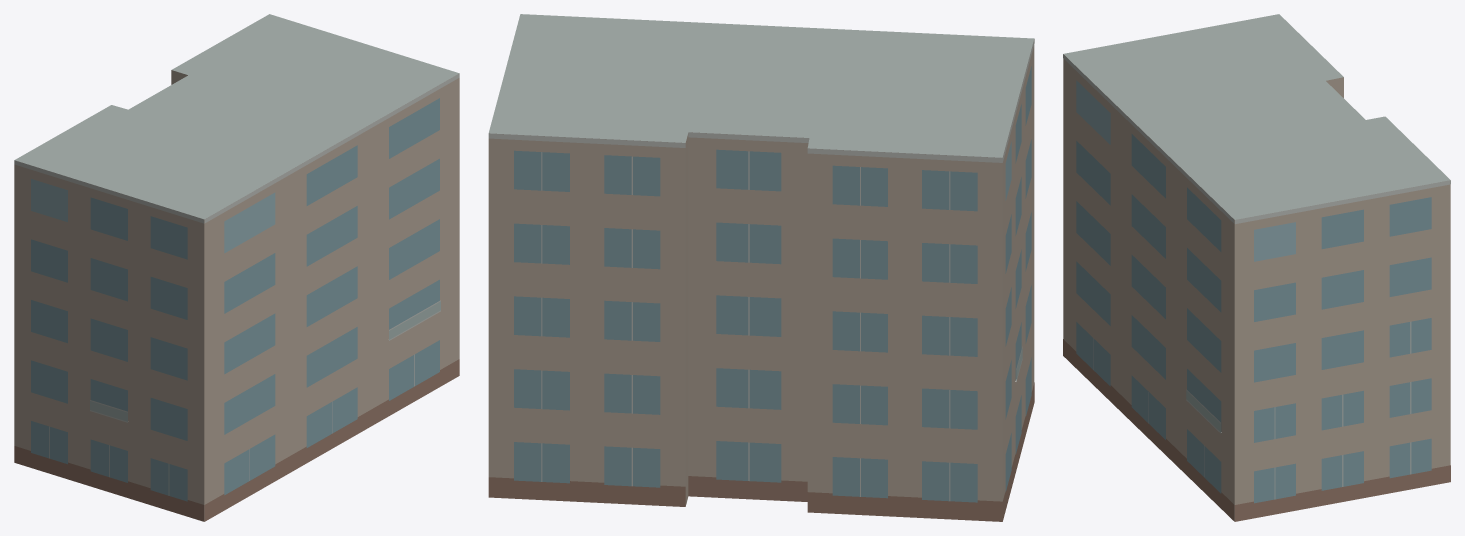
The model's file is survey-upis-32878527.glb.
3 views of the same model, side by side, from view 1: azimuth 30°, elevation 25°; view 2: azimuth 150°, elevation 25°; view 3: azimuth 270°, elevation 25° (orthographic). The views are drawn at different scales.
Parts seen in each view (by area): view 1: survey-upis-32878527.tmp; view 2: survey-upis-32878527.tmp; view 3: survey-upis-32878527.tmp.
Boxes of the visible parts, x1,y1,x2,y2 form: survey-upis-32878527.tmp: [14, 14, 459, 521]; survey-upis-32878527.tmp: [488, 14, 1034, 521]; survey-upis-32878527.tmp: [1063, 14, 1450, 521].
Size of the model in its own units: 25.25 by 17.25 by 20.08.
